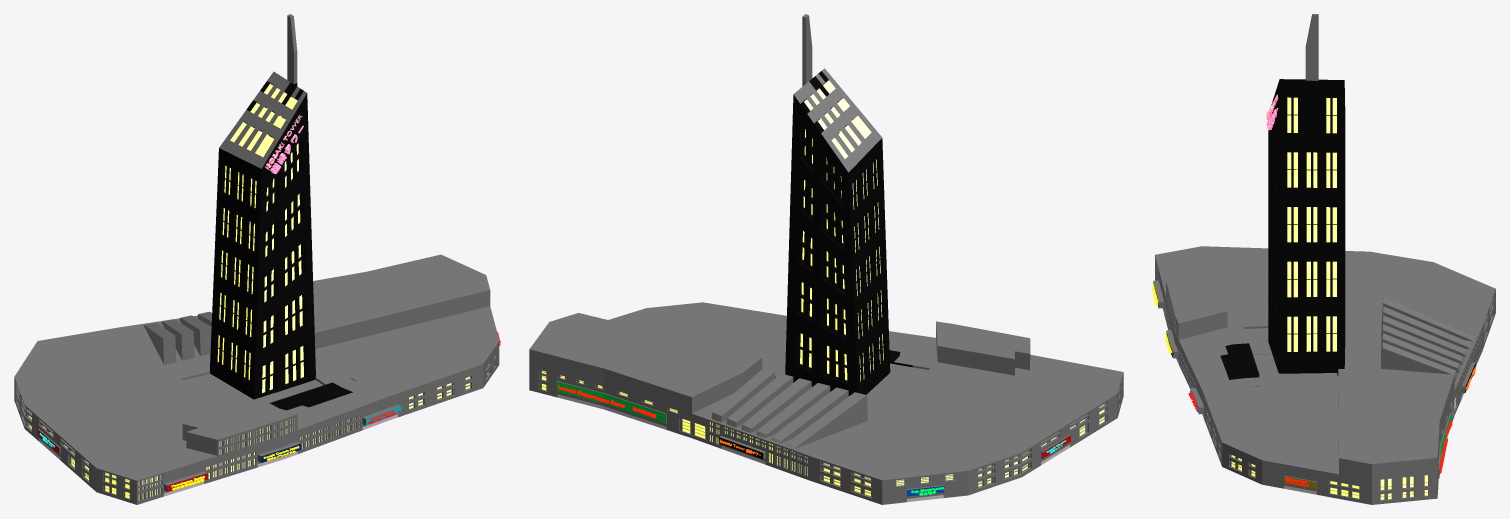
File: isosaki_complex.fbx
3 views of the same model, side by side, from view 1: azimuth 30°, elevation 25°; view 2: azimuth 150°, elevation 25°; view 3: azimuth 270°, elevation 25° (orthographic).
Parts seen in each view (by area): view 1: Plane, Plane.001; view 2: Plane, Plane.001; view 3: Plane, Plane.001.
Part boxes in pixels (bbox=[...]): Plane: bbox=[14, 254, 499, 504]; Plane.001: bbox=[210, 14, 315, 399]; Plane: bbox=[529, 302, 1123, 504]; Plane.001: bbox=[785, 14, 890, 395]; Plane: bbox=[1153, 246, 1495, 504]; Plane.001: bbox=[1268, 14, 1345, 375].
Bounding box in the file's own units: 3080 × 2330 × 1910.
